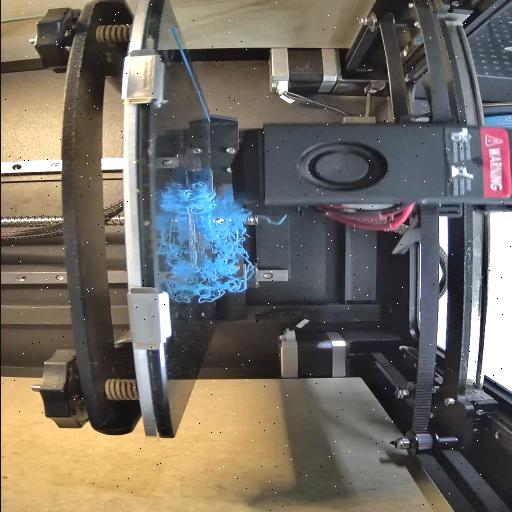spaghetti: (186, 186, 238, 296)
